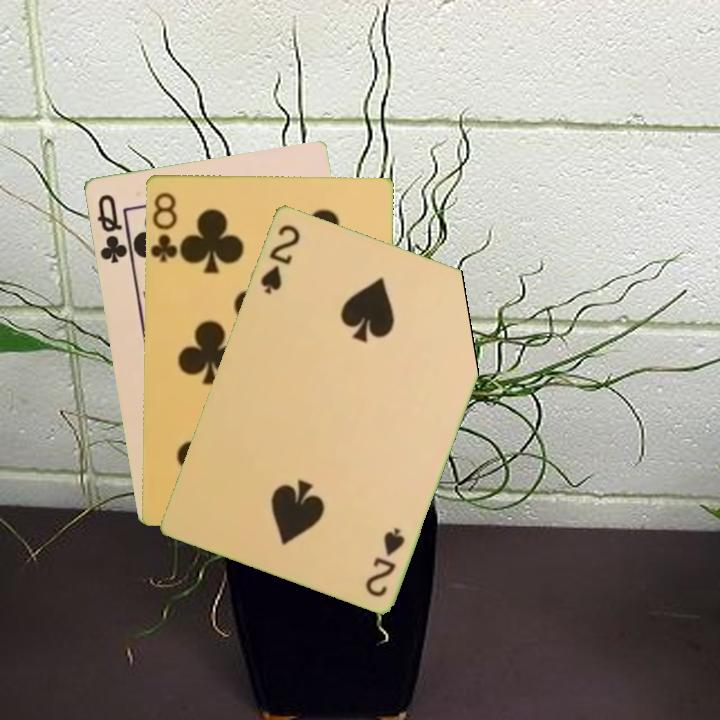2s: (256, 220, 303, 297), (361, 523, 408, 600)
8c: (147, 189, 183, 265)
Qc: (93, 190, 133, 266)
